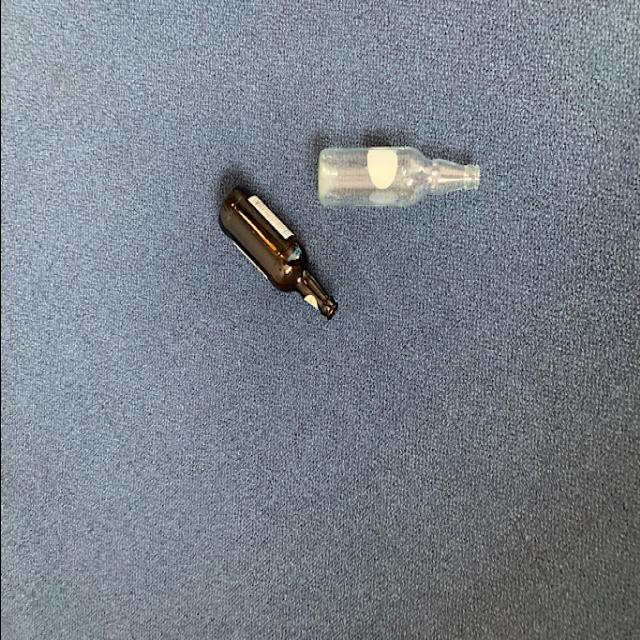Glass Bottle: (218, 182, 338, 332), (307, 146, 483, 206)
